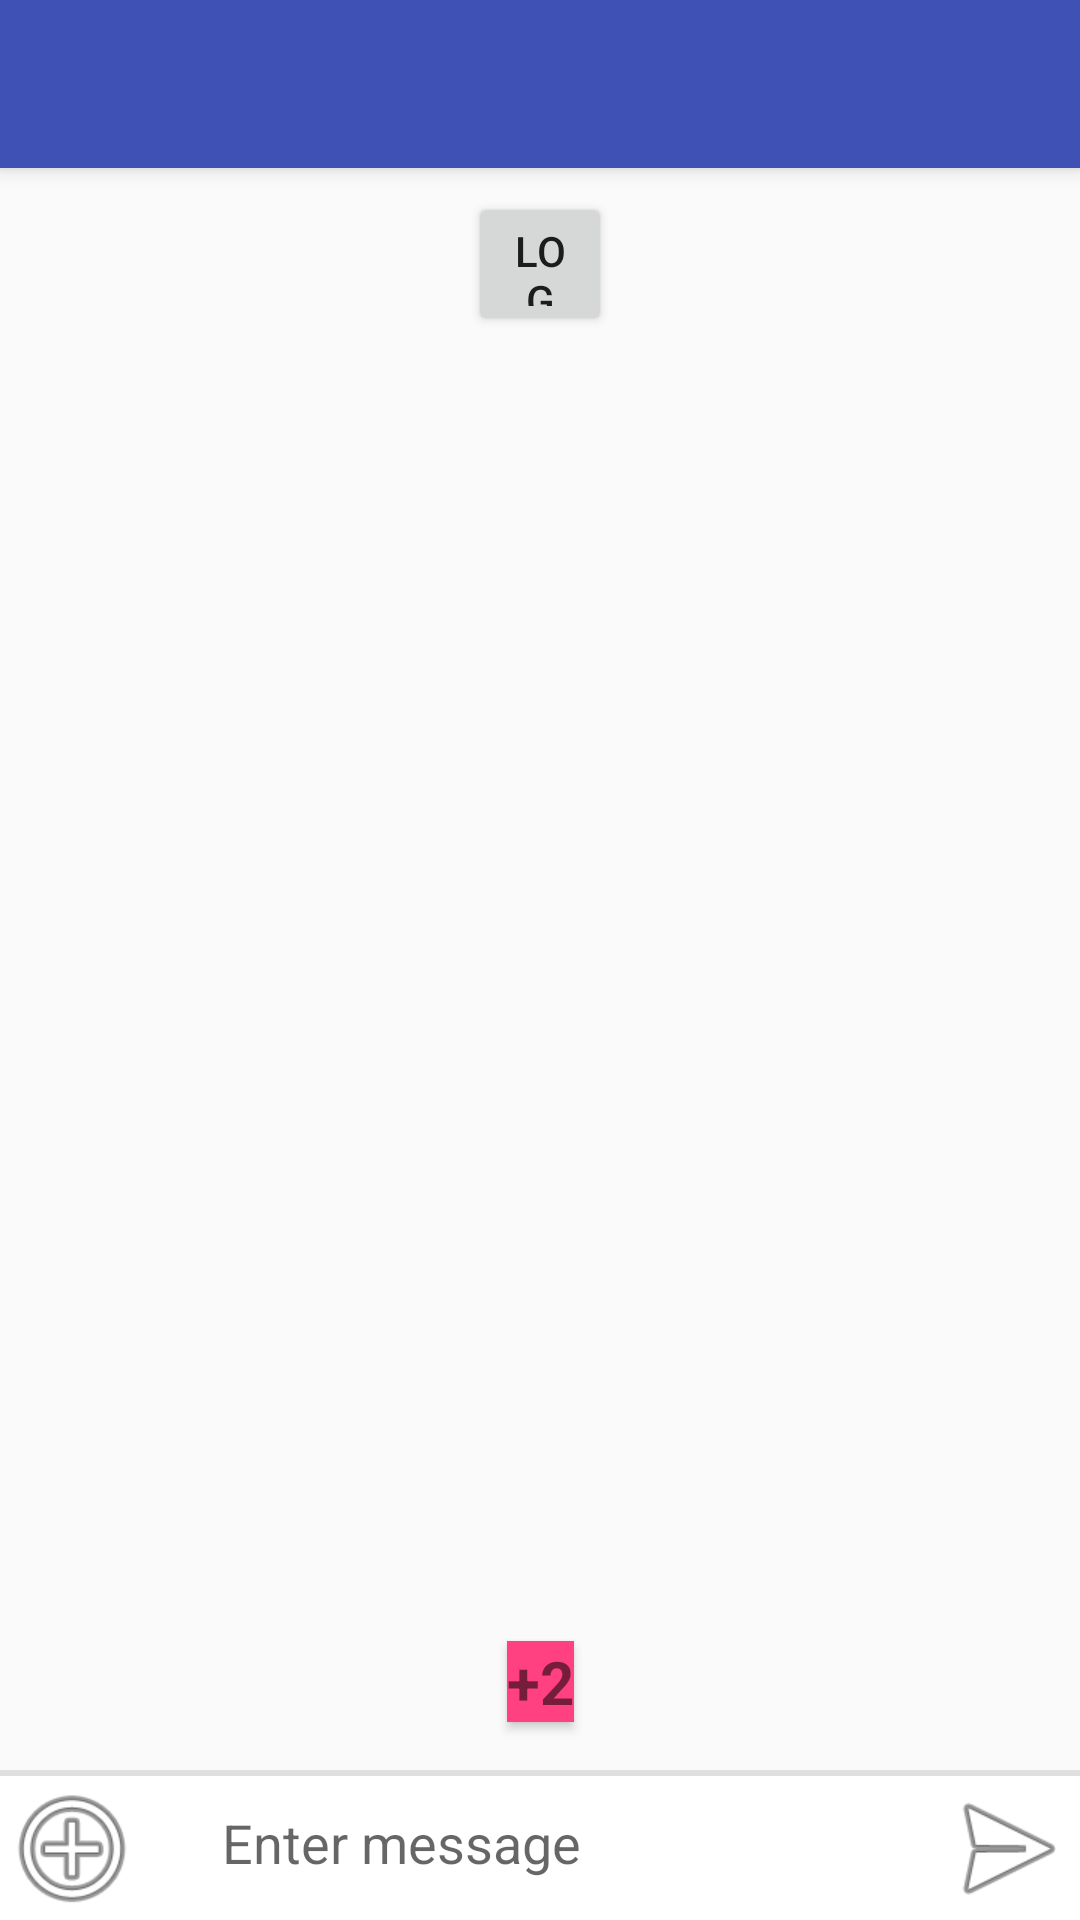

Point at icon controls on the screen. Image size 1080w x 1920h, points as (x,y).
add: (72,1848)
send: (1009,1848)
